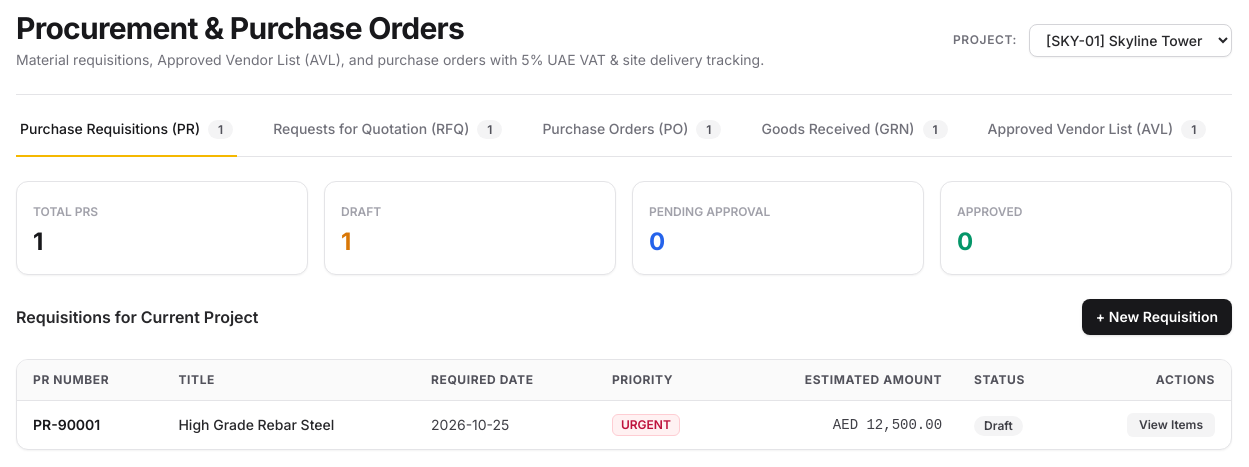
Test: ProcurementPage › switches to RFQ tab and displays quotation packages
Step 1. Click the button "Requests for Quotation (RFQ)1" → x=388, y=138, box [269,119,506,157]
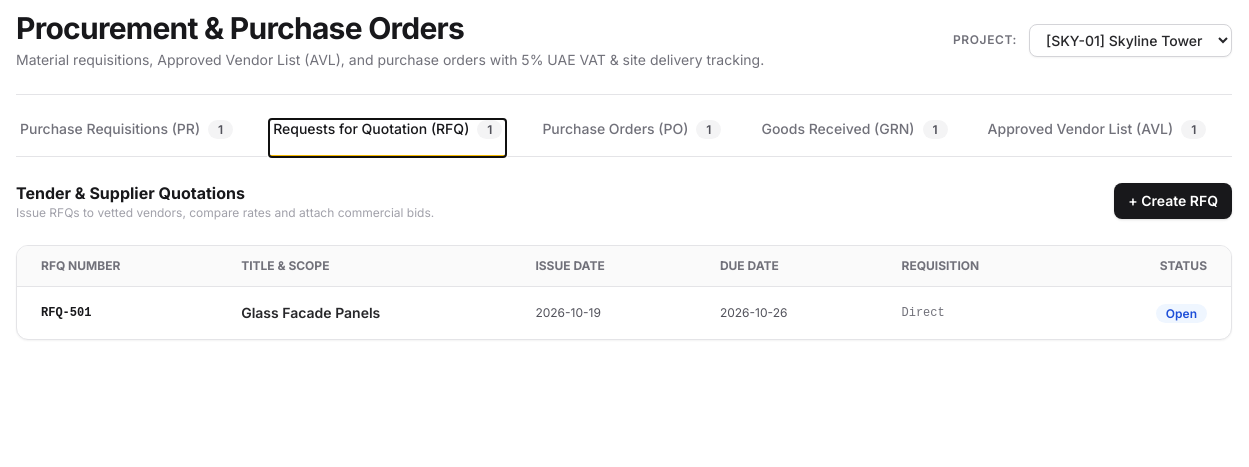
Check: the text "RFQ-501" is shown, box [17,286,217,339]
Check: the text "Glass Facade Panels" is shown, box [241,304,380,321]
Check: the button "+ Create RFQ" is shown, box [1114,183,1232,219]
